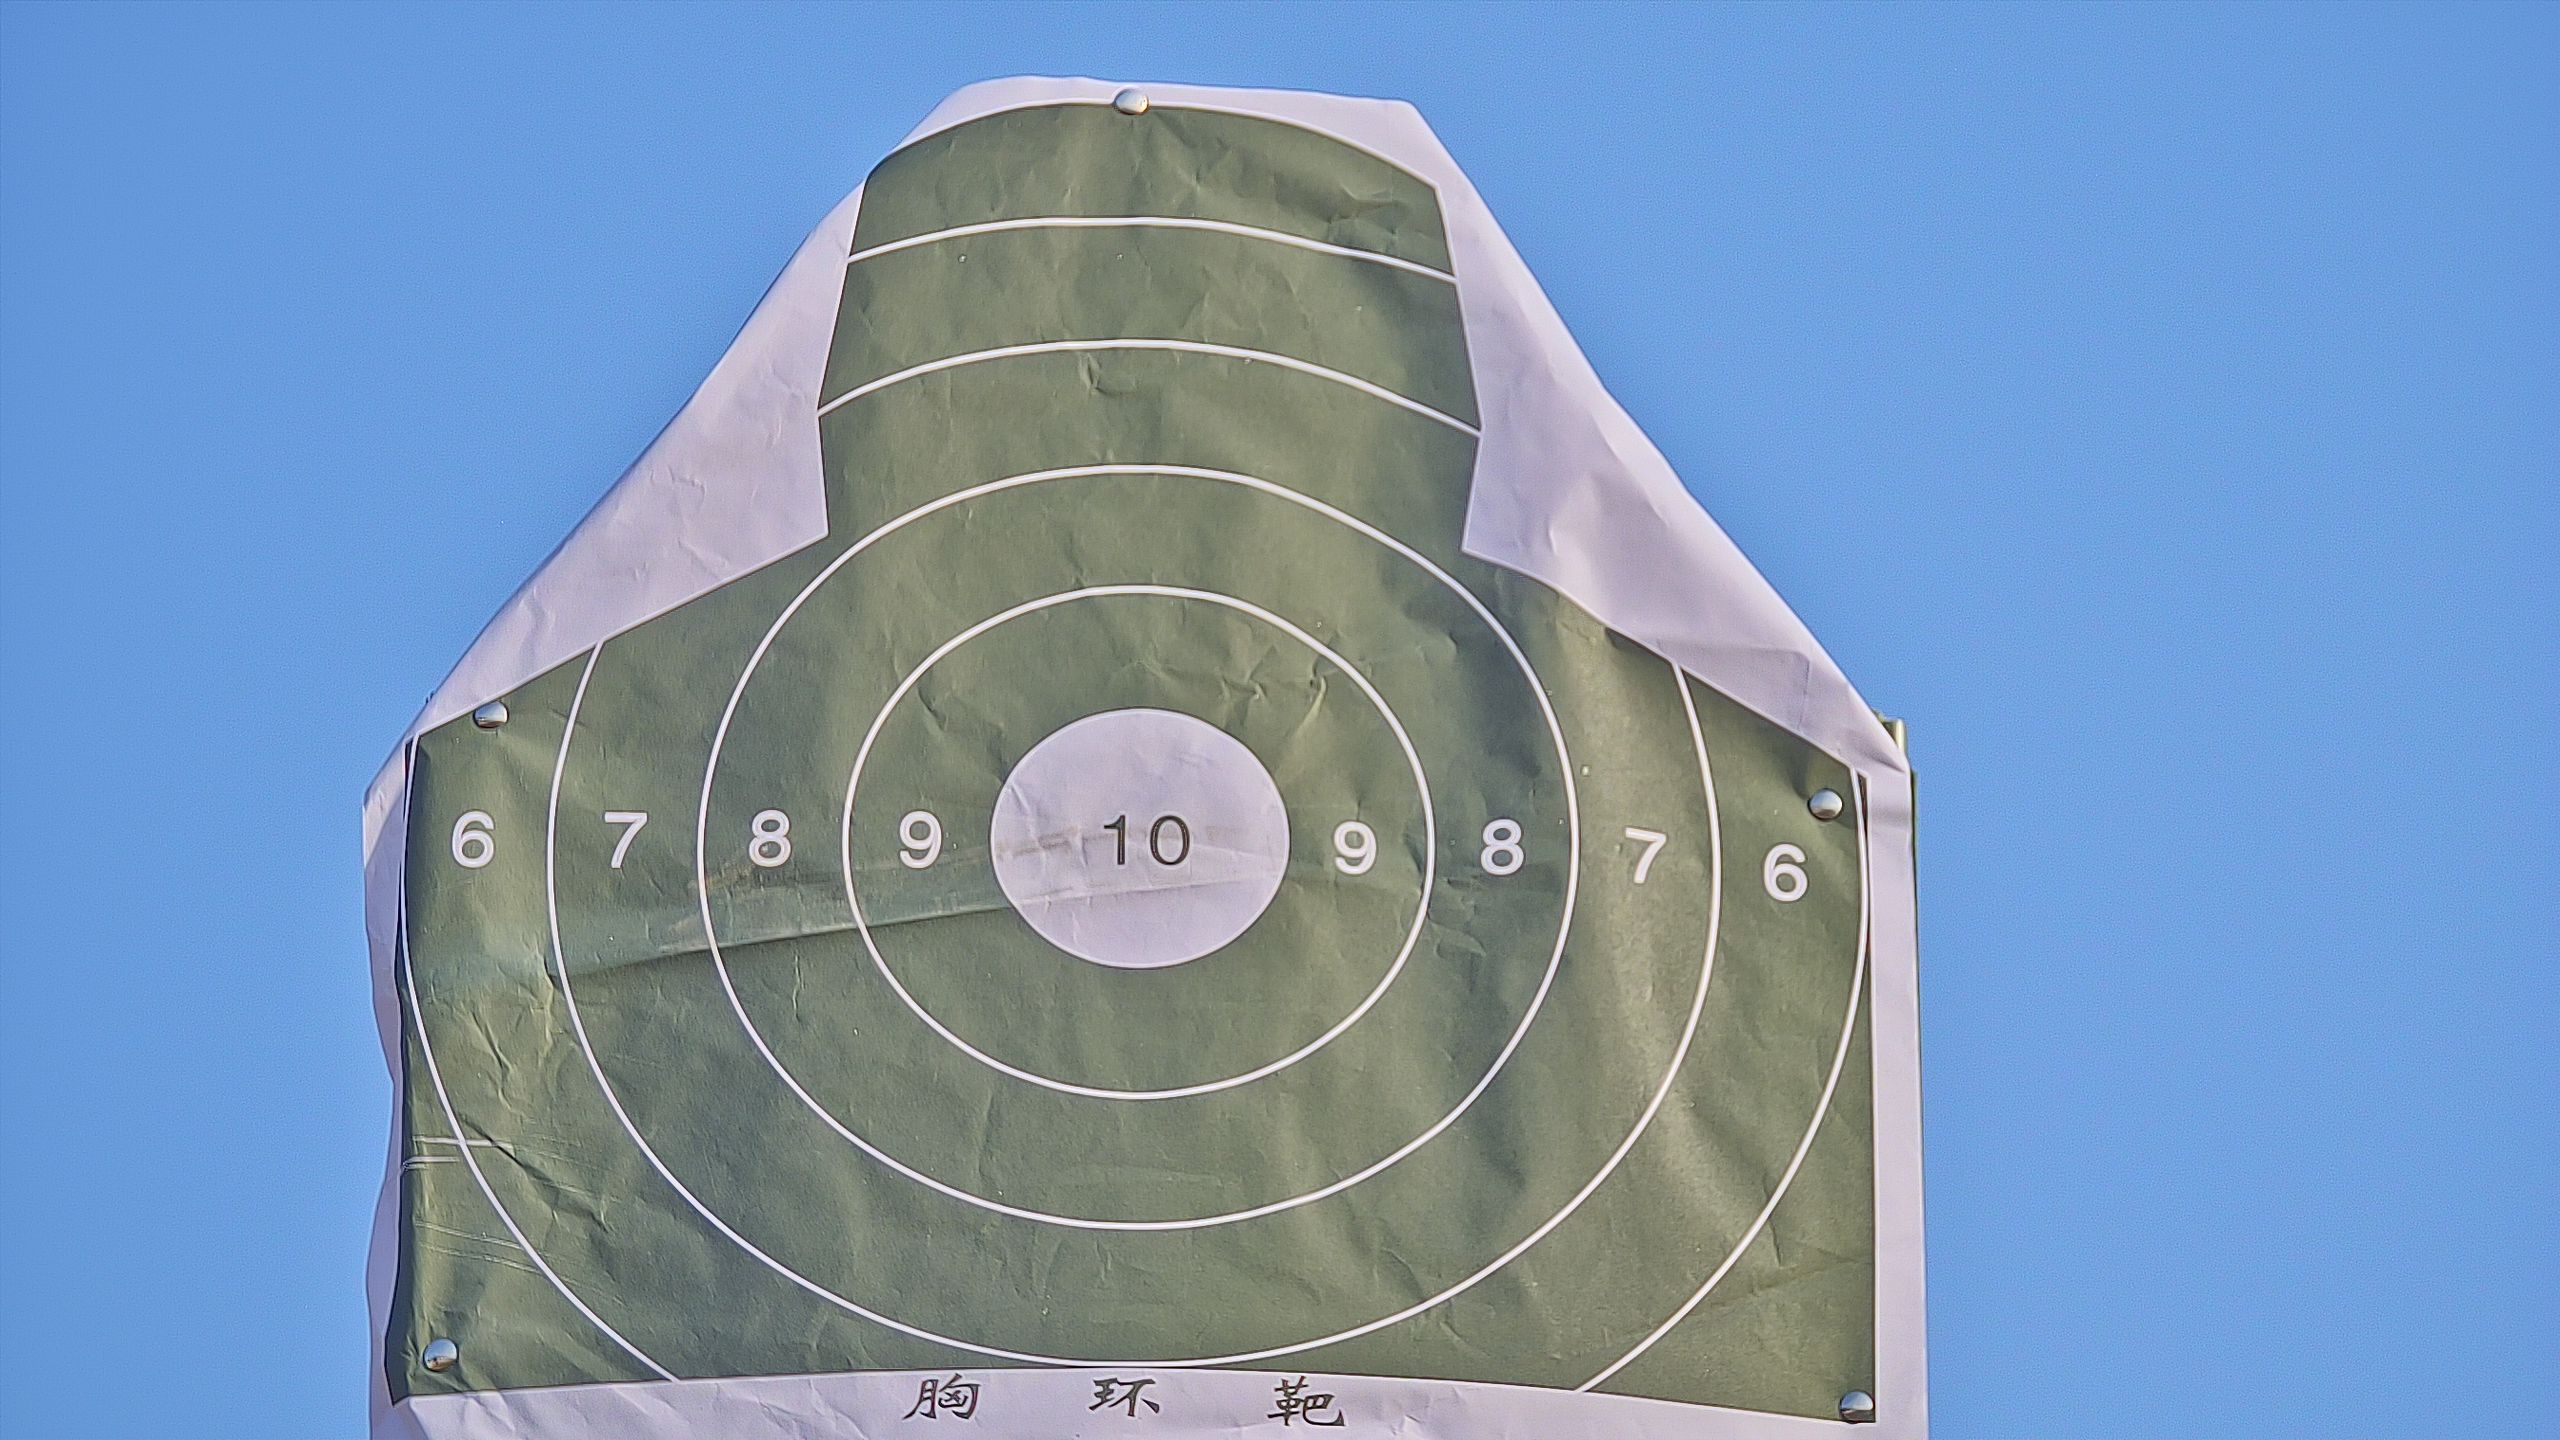kernel: (1138, 839, 1139, 844)
target: (390, 107, 1888, 1440)
ten: (981, 702, 1299, 972)
